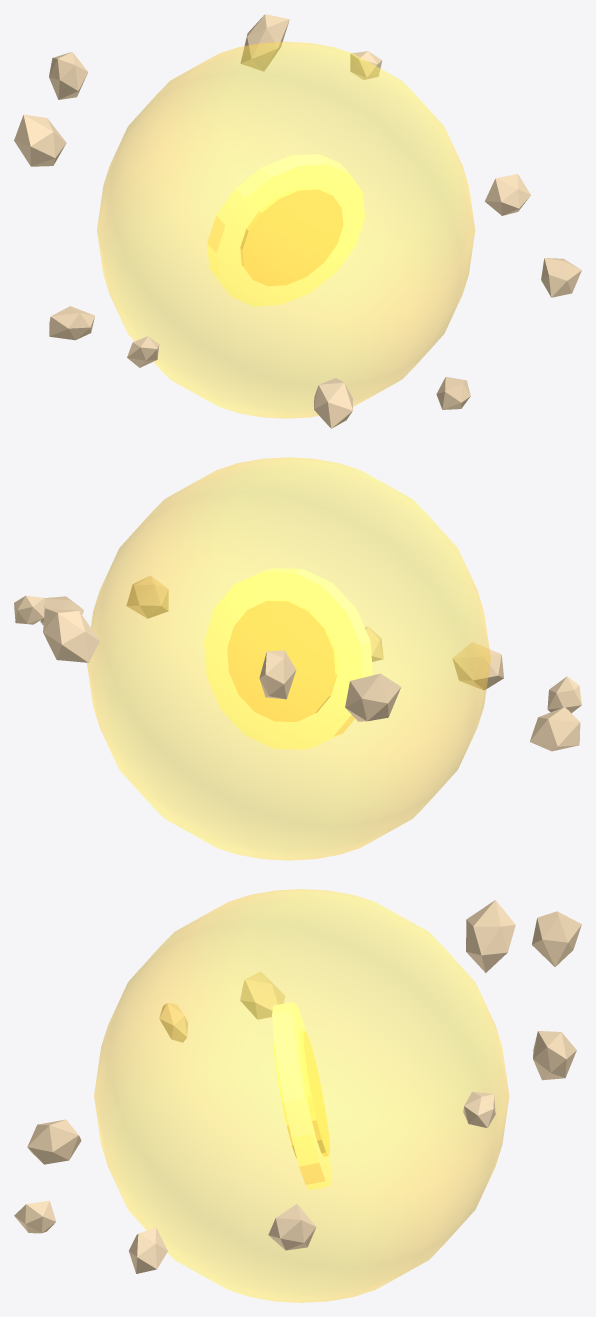
File: orb_fortune.glb
3 renders of one model, top to bottom at view 1: azimuth 30°, elevation 25°; view 2: azimuth 150°, elevation 25°; view 3: azimuth 270°, elevation 25°, orthographic. The views are drawn at different scales.
Visible parts, largest first — view 1: orb_fortune, orb_fortune_core; view 2: orb_fortune, orb_fortune_core; view 3: orb_fortune, orb_fortune_core.
Part boxes in pixels (left/top/right/bottom): orb_fortune: left=97, top=41, right=475, bottom=418; orb_fortune_core: left=14, top=14, right=581, bottom=428; orb_fortune: left=87, top=457, right=490, bottom=860; orb_fortune_core: left=14, top=568, right=581, bottom=751; orb_fortune: left=94, top=889, right=509, bottom=1302; orb_fortune_core: left=14, top=900, right=581, bottom=1273.
Bounding box in the file's own units: 0.4482 × 0.3 × 0.4101.
